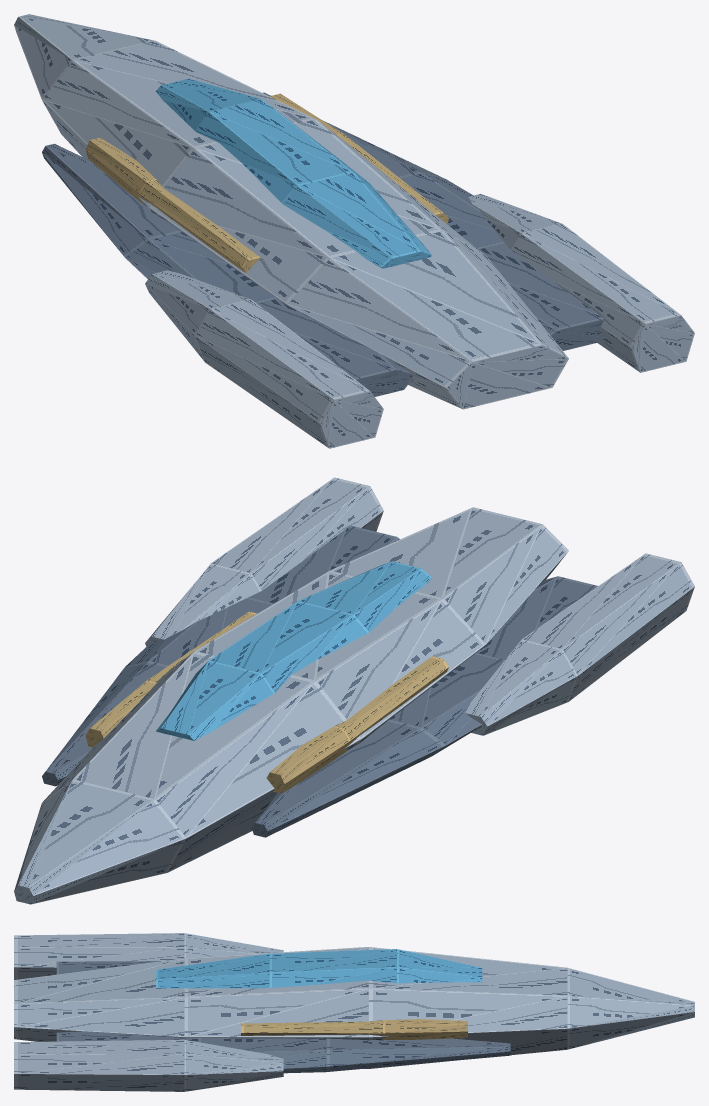
Rendered from Corvette.gltf.
3 views of the same model, one above another, from view 1: azimuth 30°, elevation 25°; view 2: azimuth 150°, elevation 25°; view 3: azimuth 270°, elevation 25° (orthographic). The views are drawn at different scales.
Parts seen in each view (by area): view 1: Lancer escort corvette; view 2: Lancer escort corvette; view 3: Lancer escort corvette.
Part boxes in pixels (x1,y1,x2,y2): Lancer escort corvette: (14, 14, 694, 448); Lancer escort corvette: (14, 477, 694, 904); Lancer escort corvette: (14, 933, 694, 1091).
Size of the model in its own units: 21.9 by 6.56 by 48.
1 material, 1 textured.
